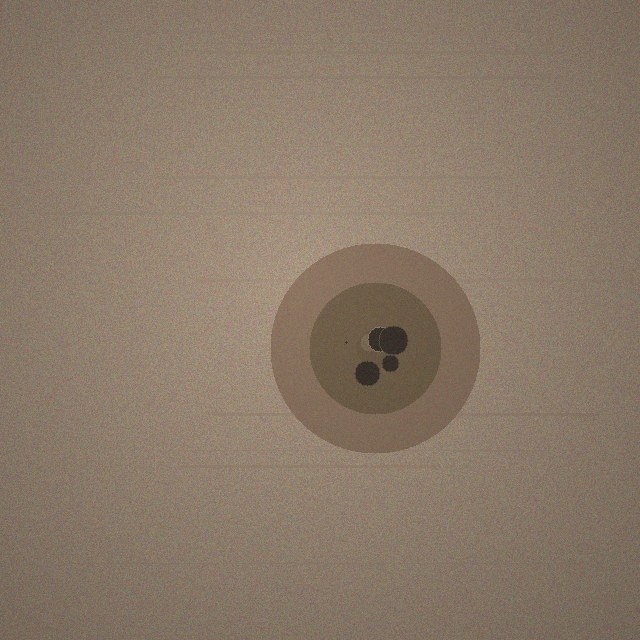shrinkage: (270, 243, 480, 453)
